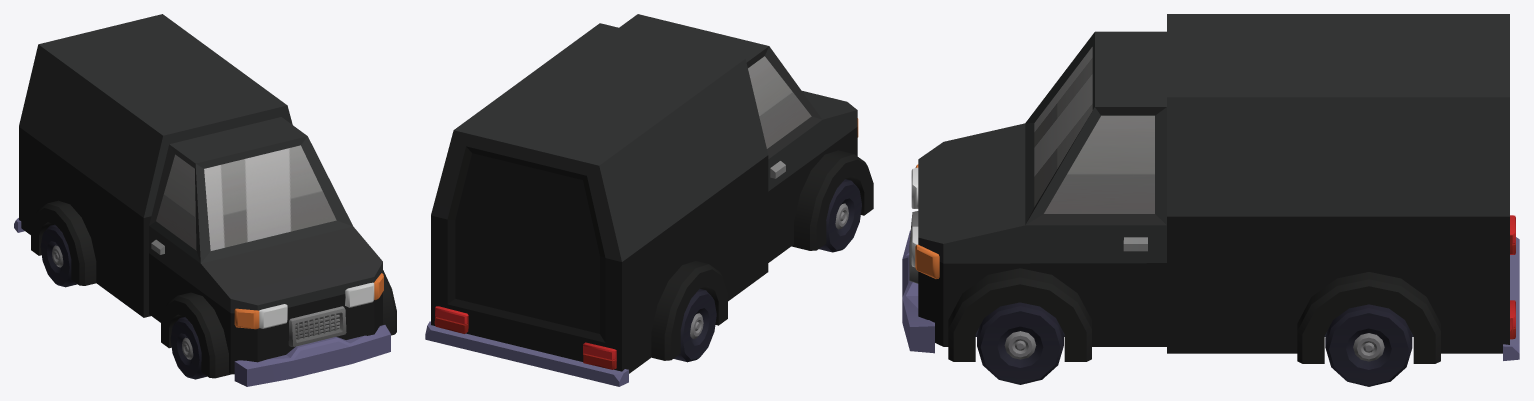
The model's file is Van_2.fbx.
The picture shows the model from 3 angles, left to right: view 1: azimuth 30°, elevation 25°; view 2: azimuth 150°, elevation 25°; view 3: azimuth 270°, elevation 25°; orthographic projection. The views are drawn at different scales.
Visible parts, largest first — view 1: Van_2, wheel_FR, wheel_BR; view 2: Van_2, wheel_BR, wheel_FR; view 3: Van_2, wheel_BL, wheel_FL.
Boxes of the visible parts, bbox=[...] form: Van_2: bbox=[14, 14, 396, 386]; wheel_FR: bbox=[170, 317, 207, 379]; wheel_BR: bbox=[40, 224, 77, 287]; Van_2: bbox=[425, 14, 873, 386]; wheel_BR: bbox=[673, 289, 716, 362]; wheel_FR: bbox=[819, 179, 861, 252]; Van_2: bbox=[902, 14, 1519, 363]; wheel_BL: bbox=[1325, 304, 1412, 386]; wheel_FL: bbox=[977, 302, 1063, 384].
Bounding box in the file's own units: 1.23 × 1.19 × 2.48.
